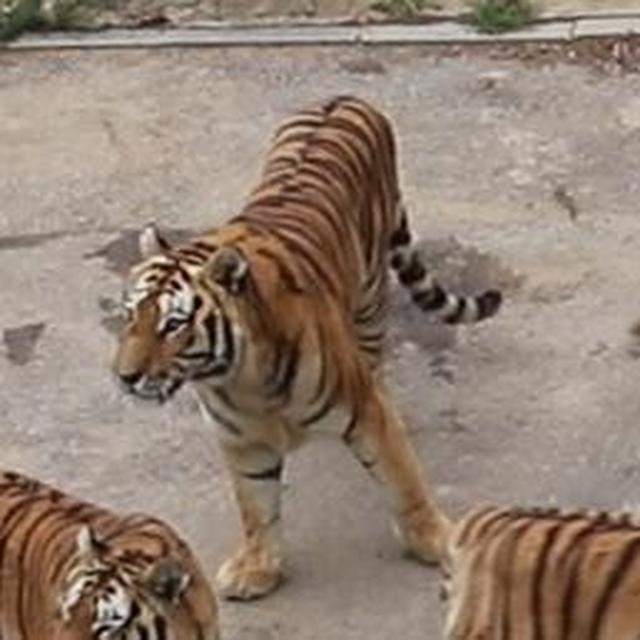tiger: (109, 91, 503, 601), (0, 460, 225, 639), (431, 498, 639, 639)
